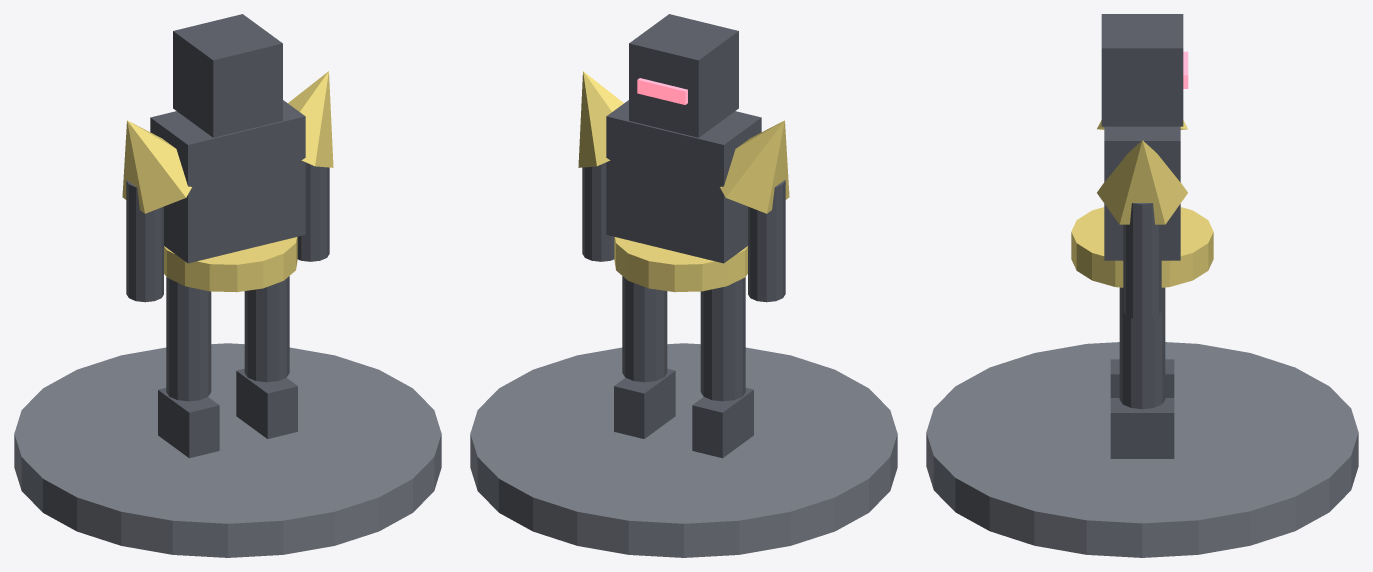
File: armor_set_dark_phoenix.glb
3 renders of one model, left to right at view 1: azimuth 30°, elevation 25°; view 2: azimuth 150°, elevation 25°; view 3: azimuth 270°, elevation 25°, orthographic.
Parts seen in each view (by area): view 1: Cylinder, Cube.002, Cube.003, Cylinder.001, Cylinder.003, Cylinder.002, Cone, Cylinder.004, Cube, Cube.001, Cylinder.005, Cone.001; view 2: Cylinder, Cube.002, Cube.003, Cylinder.001, Cylinder.003, Cylinder.002, Cone, Cylinder.004, Cube, Cube.001, Cylinder.005, Cone.001 (+1 smaller); view 3: Cylinder, Cube.003, Cylinder.003, Cylinder.002, Cube.002, Cone.001, Cylinder.005, Cube.001, Cube.
Boxes of the visible parts, x1,y1,x2,y2 form: Cylinder: (14,343,441,557); Cube.002: (150,100,305,263); Cube.003: (173,14,282,137); Cylinder.001: (166,277,211,401); Cylinder.003: (164,237,297,292); Cylinder.002: (244,276,289,382); Cone: (122,120,191,213); Cylinder.004: (126,180,163,302); Cube: (158,388,219,458); Cube.001: (236,368,297,438); Cylinder.005: (297,162,329,261); Cone.001: (288,71,333,167); Cylinder: (470,343,897,557); Cube.002: (606,100,761,263); Cube.003: (629,14,738,137); Cylinder.001: (700,277,745,401); Cylinder.003: (614,237,747,292); Cylinder.002: (622,276,667,382); Cone: (720,120,789,213); Cylinder.004: (748,180,785,302); Cube: (692,388,753,458); Cube.001: (614,368,675,438); Cylinder.005: (582,162,614,261); Cone.001: (578,71,623,167); Cylinder: (926,342,1358,557); Cube.003: (1101,14,1183,126); Cylinder.003: (1071,207,1213,287); Cylinder.002: (1119,287,1165,409); Cube.002: (1104,126,1180,260); Cone.001: (1097,140,1187,224); Cylinder.005: (1123,203,1161,319); Cube.001: (1110,398,1174,458); Cube: (1110,359,1174,397).
Size of the model in its own units: 1.7 by 1.89 by 1.7.
